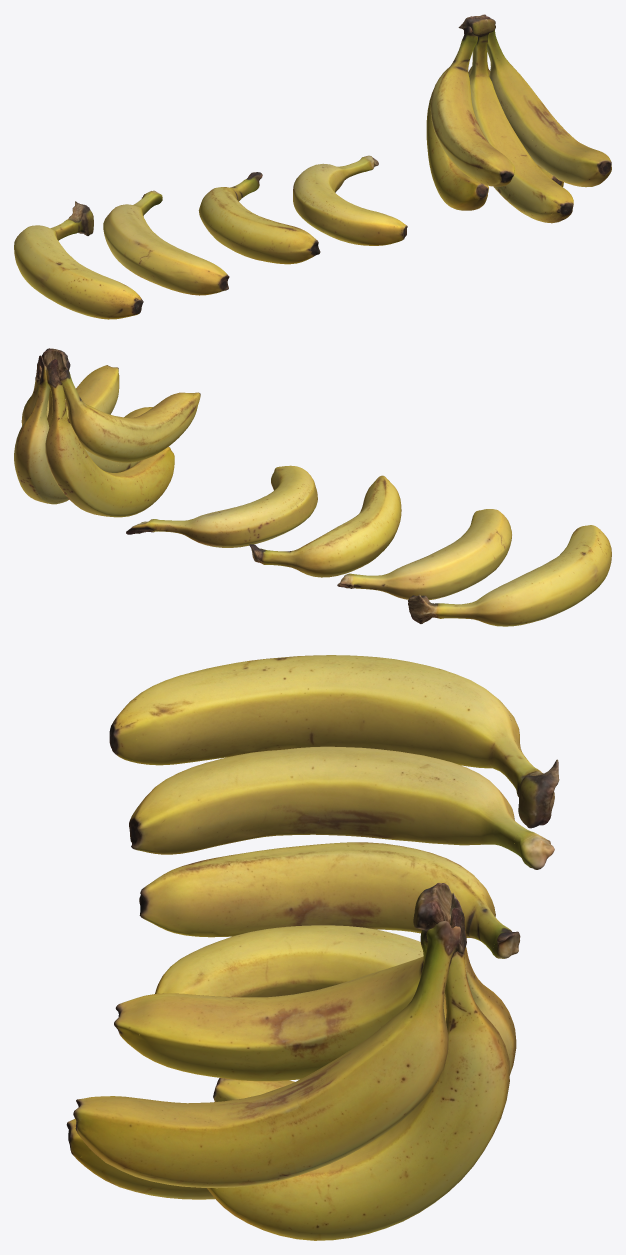
File: bananas.glb
3 views of the same model, one above another, from view 1: azimuth 30°, elevation 25°; view 2: azimuth 150°, elevation 25°; view 3: azimuth 270°, elevation 25° (orthographic). The views are drawn at different scales.
Parts seen in each view (by area): view 1: bananas_bunch, bananas_d, bananas_c, bananas_a, bananas_b; view 2: bananas_bunch, bananas_d, bananas_c, bananas_a, bananas_b; view 3: bananas_bunch, bananas_d, bananas_c, bananas_b, bananas_a.
Part boxes in pixels (x1,y1,x2,y2): bananas_bunch: (426, 14, 611, 223); bananas_d: (14, 201, 143, 319); bananas_c: (103, 190, 229, 295); bananas_a: (293, 155, 407, 245); bananas_b: (198, 172, 320, 264); bananas_bunch: (14, 348, 200, 517); bananas_d: (408, 525, 611, 626); bananas_c: (337, 509, 511, 600); bananas_a: (126, 465, 317, 547); bananas_b: (249, 475, 401, 577); bananas_bunch: (66, 883, 516, 1240); bananas_d: (109, 655, 559, 828); bananas_c: (129, 746, 554, 869); bananas_b: (139, 842, 520, 958); bananas_a: (155, 925, 423, 997).
Size of the model in its own units: 0.6 by 0.1788 by 0.2441.
Materials: 1 (1 with a texture image).
